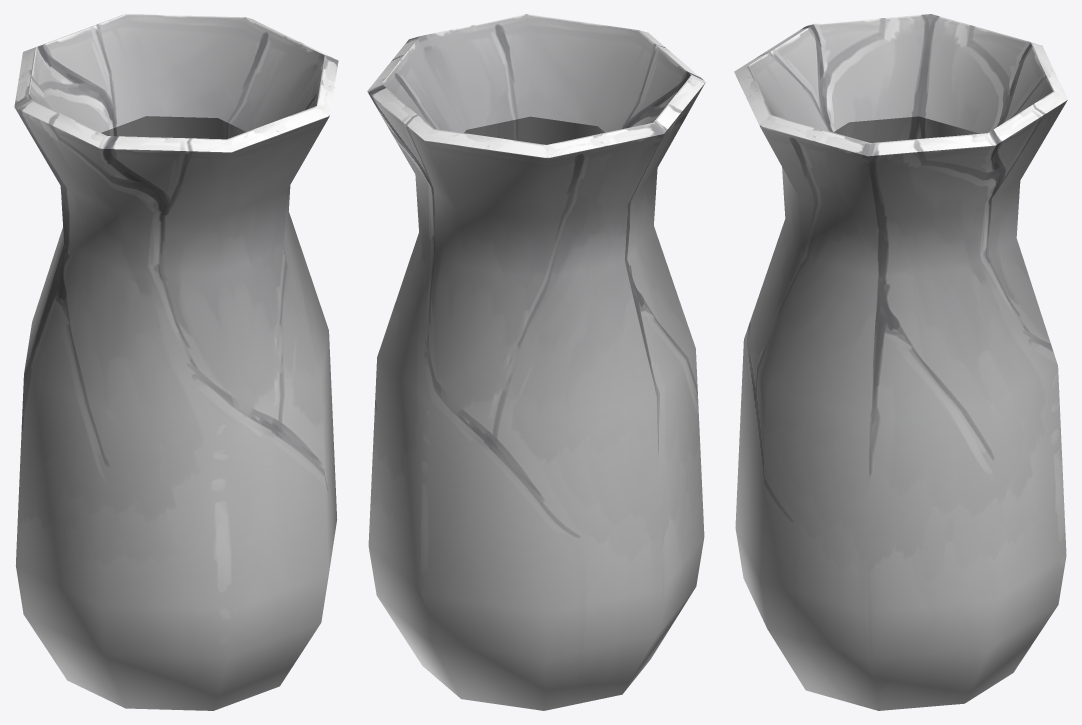
The model's file is Vase01.fbx.
The picture shows the model from 3 angles, left to right: view 1: azimuth 30°, elevation 25°; view 2: azimuth 150°, elevation 25°; view 3: azimuth 270°, elevation 25°; orthographic projection.
Parts seen in each view (by area): view 1: Vase01; view 2: Vase01; view 3: Vase01.
Part boxes in pixels (x1=…): Vase01: x1=14, y1=14, x2=338, y2=710; Vase01: x1=367, y1=14, x2=705, y2=710; Vase01: x1=734, y1=14, x2=1067, y2=710.
Bounding box in the file's own units: 0.1512 × 0.2922 × 0.1512.
Materials: 1 (1 with a texture image).
